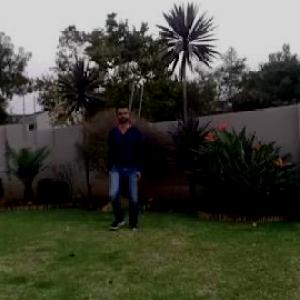follow: (108, 98, 146, 230)
